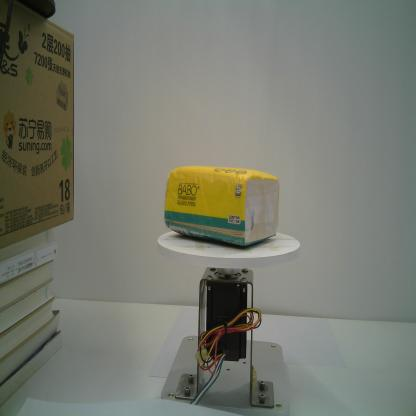Tissue: (163, 164, 280, 248)
